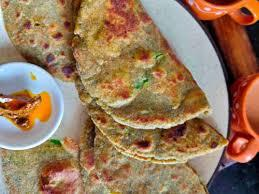paratha: (74, 0, 217, 127), (74, 74, 228, 160), (4, 0, 76, 75)
